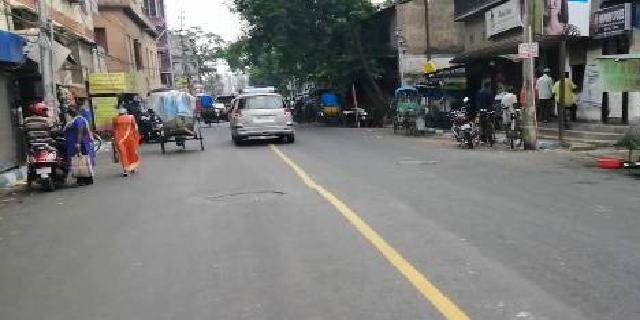Car: (225, 94, 301, 142)
Motorbike: (21, 108, 72, 186), (447, 103, 483, 149)
Rickshaw: (147, 93, 212, 152)
